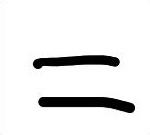eqv: (27, 50, 138, 116)
